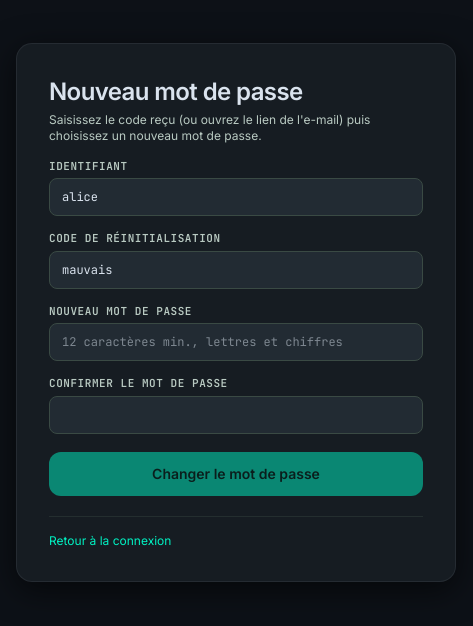
Mot de passe oublié › affiche l'erreur du serveur pour un code invalide
Type "NouveauMdp2026!" into the password field labelled "Nouveau mot de passe" at (236, 342), box [49,323,423,361]
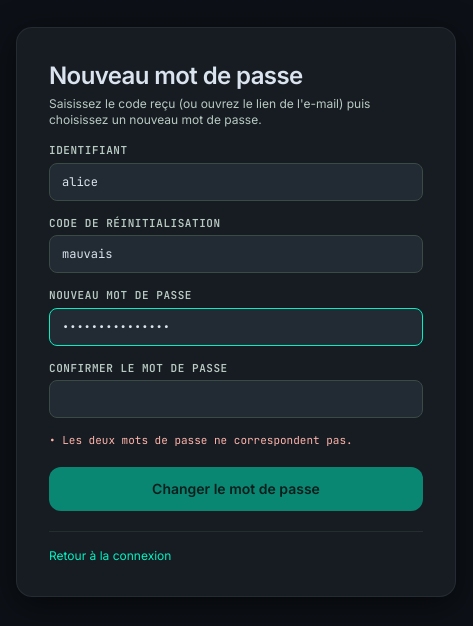
Type "NouveauMdp2026!" into the password field labelled "Confirmer le mot de passe" at (236, 399), box [49,380,423,418]
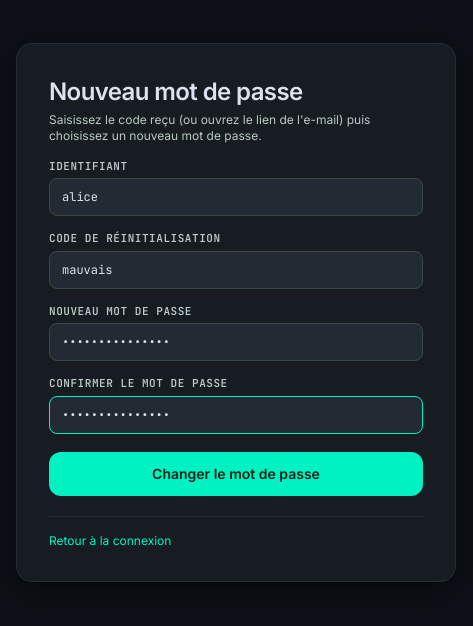
Click the button "Changer le mot de passe" at (236, 474), box [49,452,423,496]
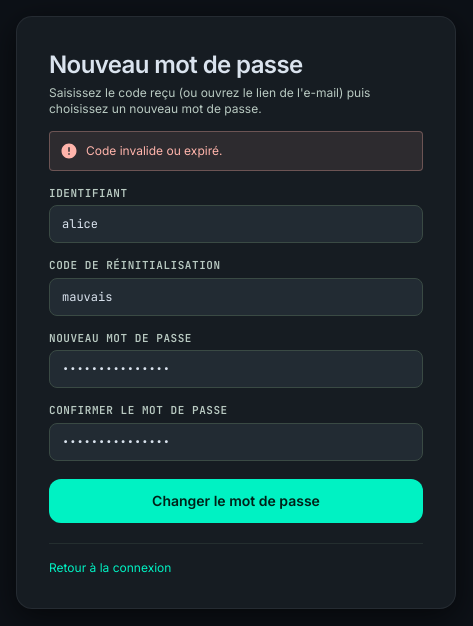
Expected: the message reads "Code invalide ou expiré.", [86,142,222,158]
